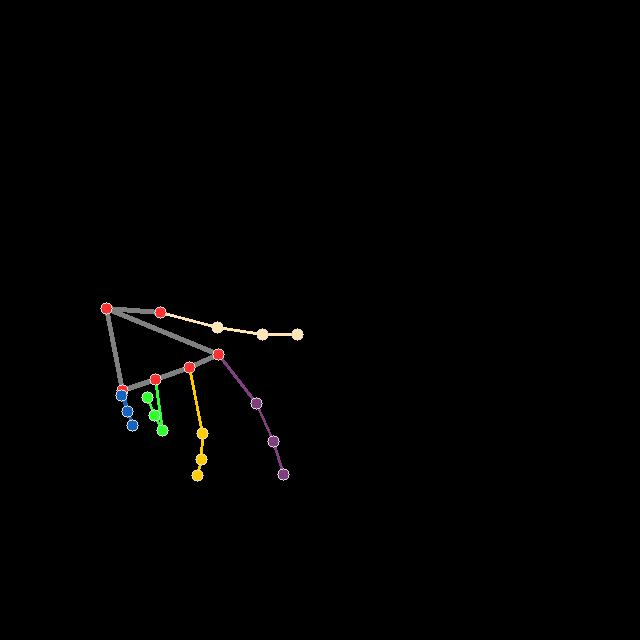gun: (97, 298, 316, 490)
